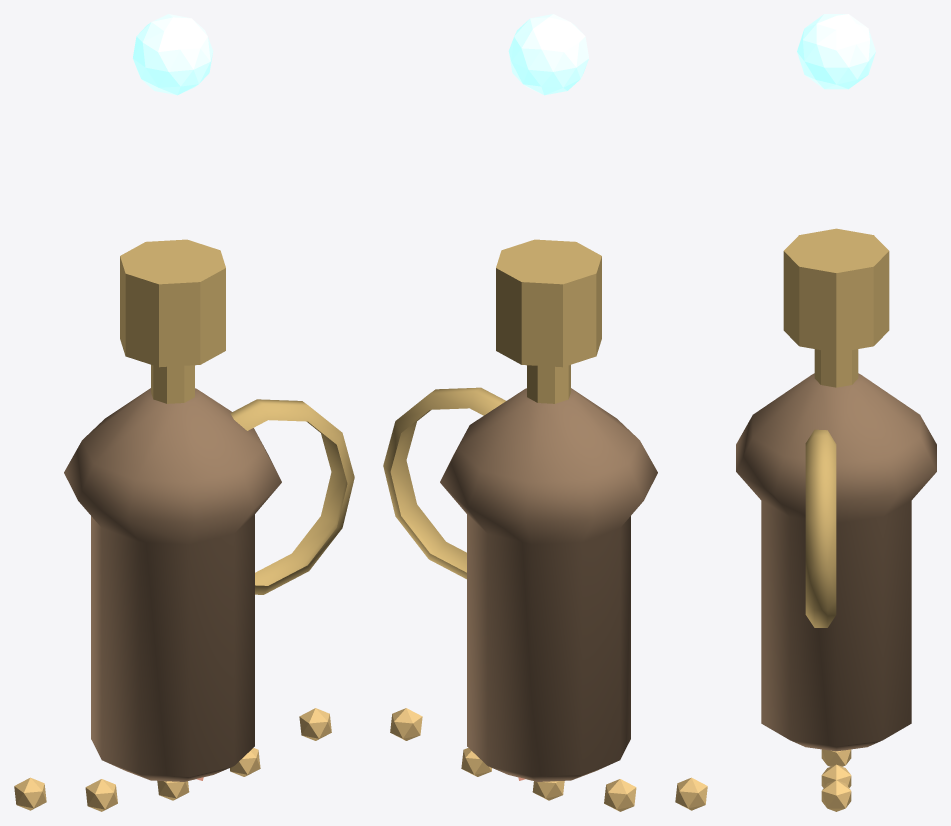
Rendered from misc-kit.glb.
3 views of the same model, side by side, from view 1: azimuth 30°, elevation 25°; view 2: azimuth 150°, elevation 25°; view 3: azimuth 270°, elevation 25° (orthographic). The views are drawn at different scales.
Parts seen in each view (by area): view 1: MooringPost, mooringLamp, MooringRing, mooringLampGlow, garland; view 2: MooringPost, mooringLamp, MooringRing, mooringLampGlow, garland; view 3: MooringPost, mooringLamp, MooringRing, mooringLampGlow, garland.
Part boxes in pixels (left/top/right/bottom): MooringPost: left=64, top=388, right=281, bottom=781; mooringLamp: left=120, top=239, right=225, bottom=403; MooringRing: left=230, top=399, right=354, bottom=594; mooringLampGlow: left=133, top=14, right=213, bottom=95; garland: left=14, top=708, right=331, bottom=811; MooringPost: left=440, top=388, right=657, bottom=781; mooringLamp: left=496, top=239, right=601, bottom=403; MooringRing: left=383, top=387, right=505, bottom=579; mooringLampGlow: left=508, top=14, right=588, bottom=95; garland: left=390, top=708, right=707, bottom=811; MooringPost: left=736, top=373, right=936, bottom=751; mooringLamp: left=783, top=228, right=889, bottom=387; MooringRing: left=805, top=429, right=836, bottom=627; mooringLampGlow: left=797, top=14, right=875, bottom=89; garland: left=821, top=749, right=851, bottom=811.
Bounding box in the file's own units: 0.4129 × 0.945 × 0.2282.
